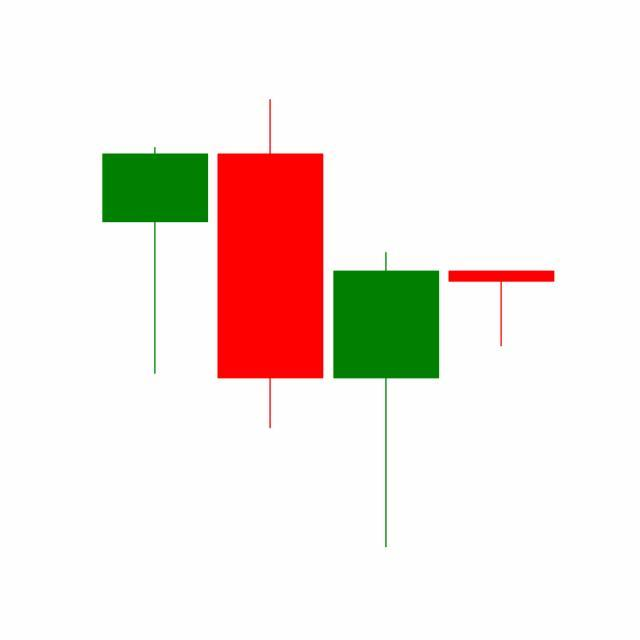Dragonfly Doji: (444, 271, 560, 349)
